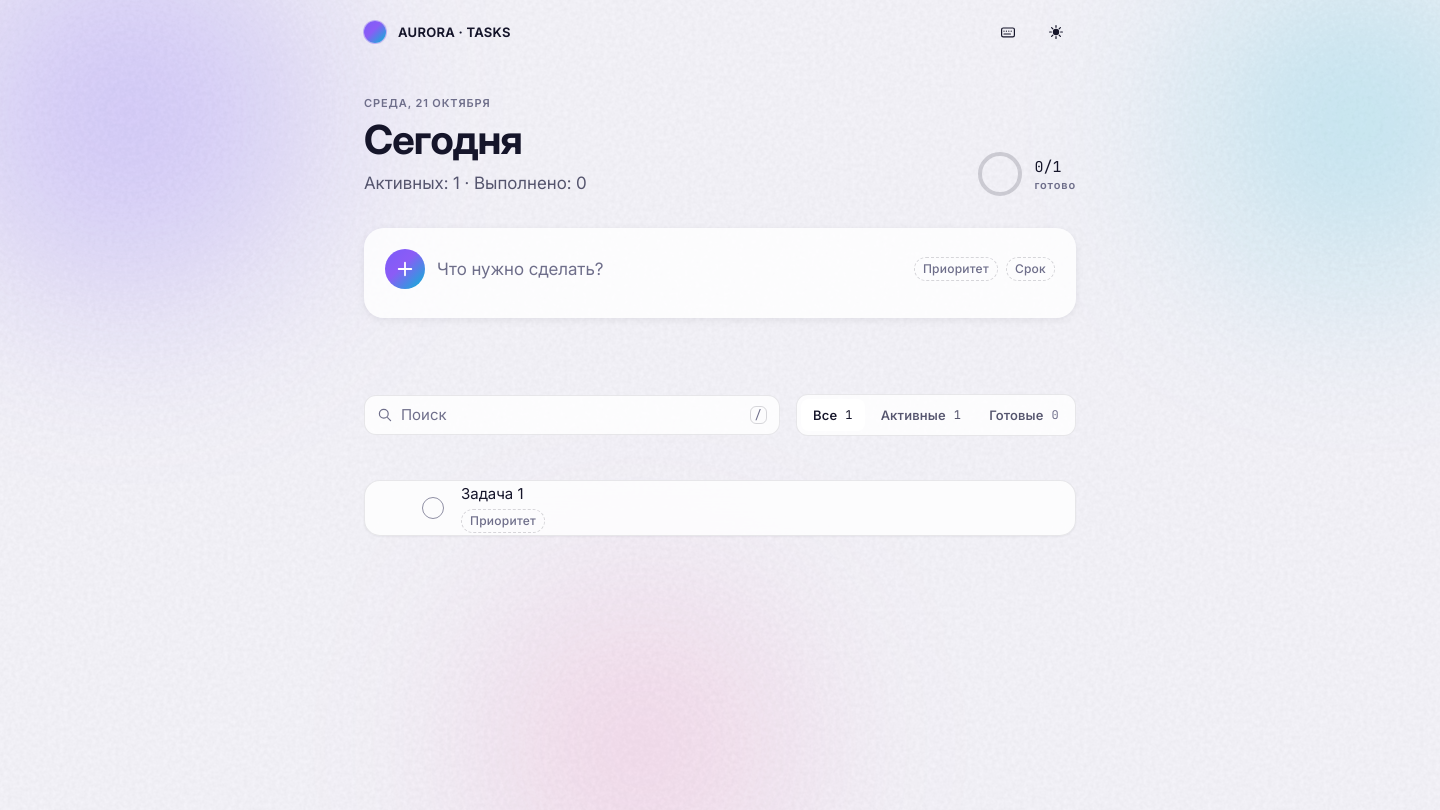
Scenario: keyboard flow (design-spec 6.3 / section 7) › the global keys, wired to the real screen › every action in the add/complete/delete/undo cycle still works (criterion 17)
Type keys "n"
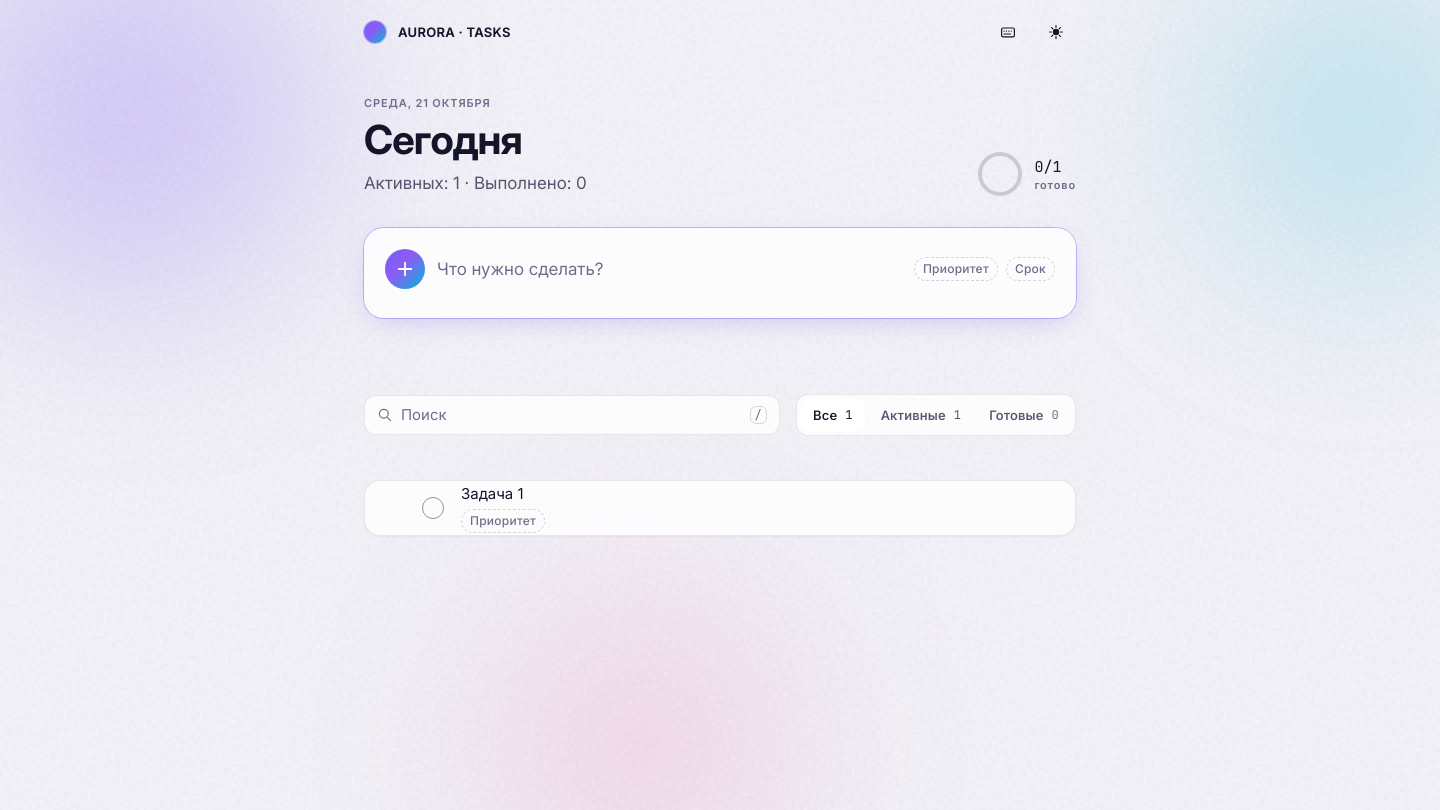
Type keys "Новая задача{Enter}"
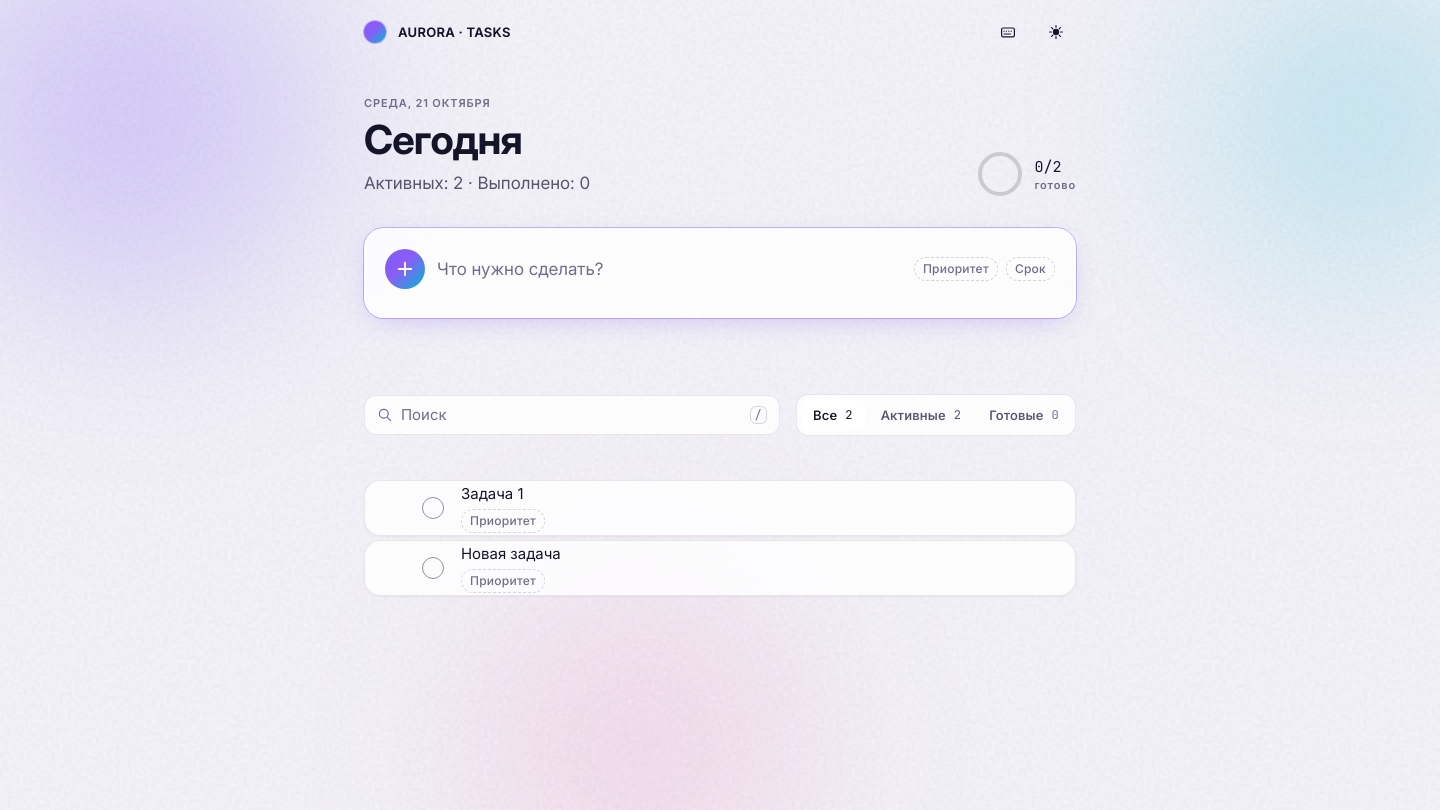
Expected: the text "Активных: 2 · Выполнено: 0" is shown, x1=364 y1=170 x2=590 y2=196
Click the checkbox labelled "Новая задача". click: (433, 568)
box: x1=422 y1=557 x2=444 y2=579
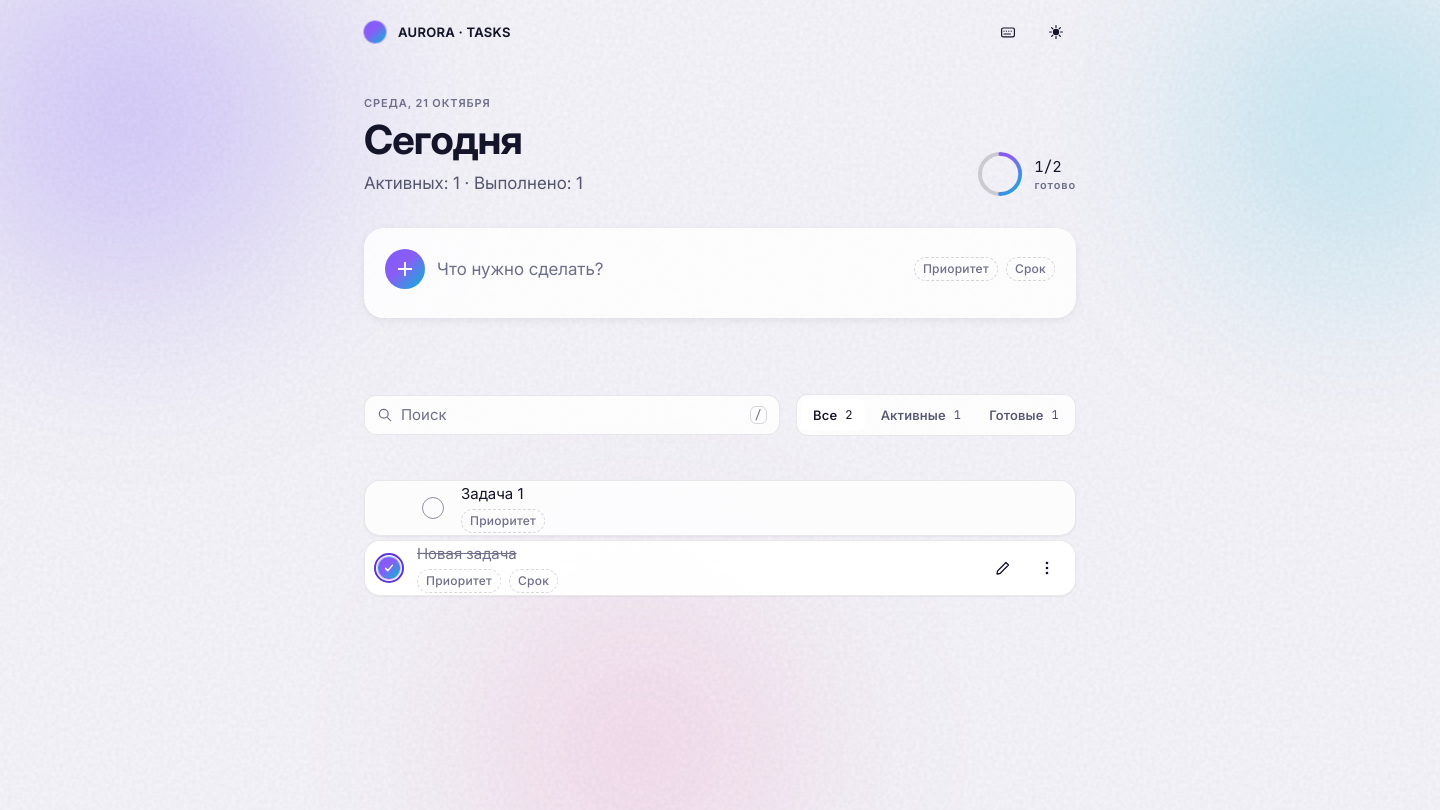
Expected: the text "Активных: 1 · Выполнено: 1" is shown, x1=364 y1=170 x2=583 y2=196
Click the checkbox labelled "Новая задача". click: (389, 568)
box: x1=378 y1=557 x2=400 y2=579
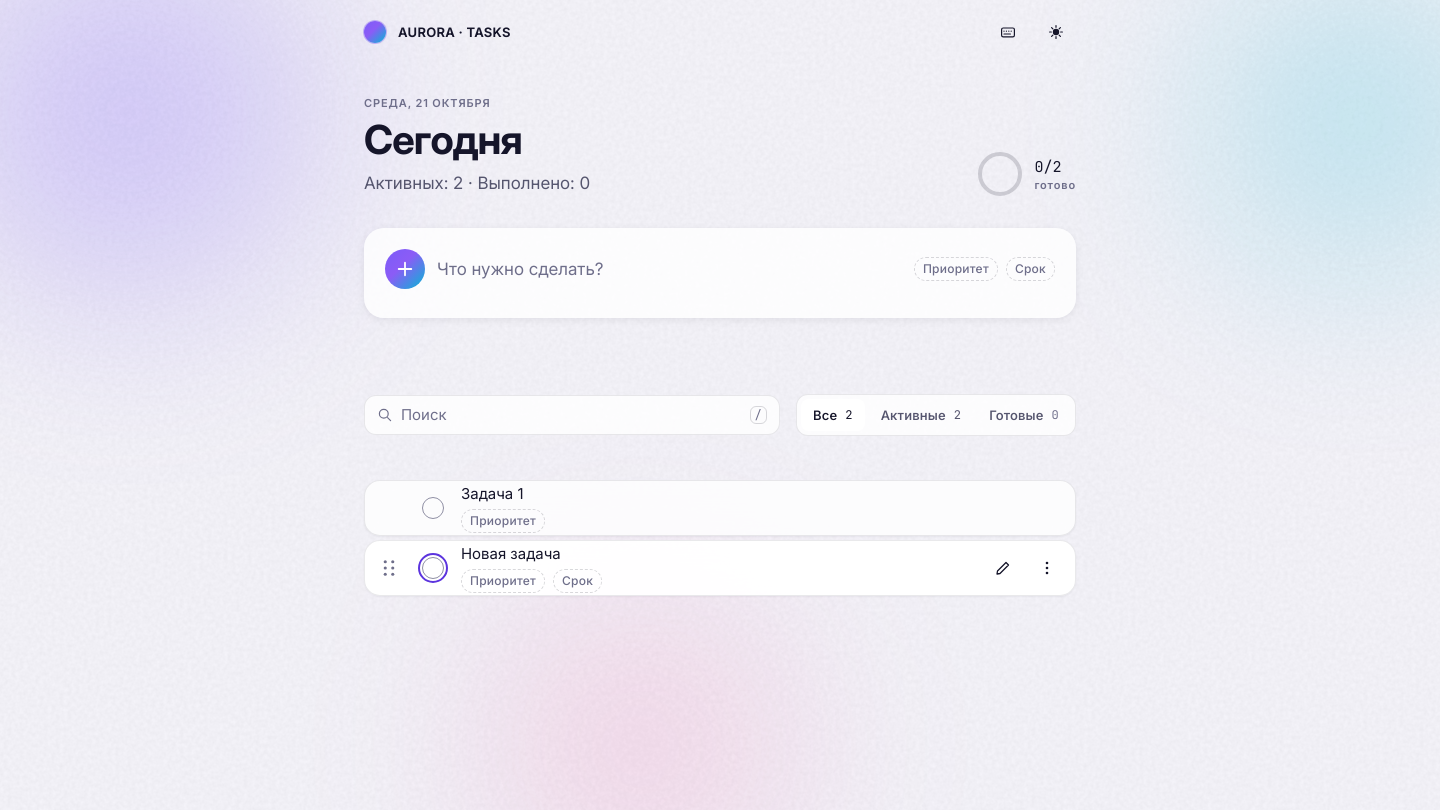
Expected: the text "Активных: 2 · Выполнено: 0" is shown, x1=364 y1=170 x2=590 y2=196
Press Delete
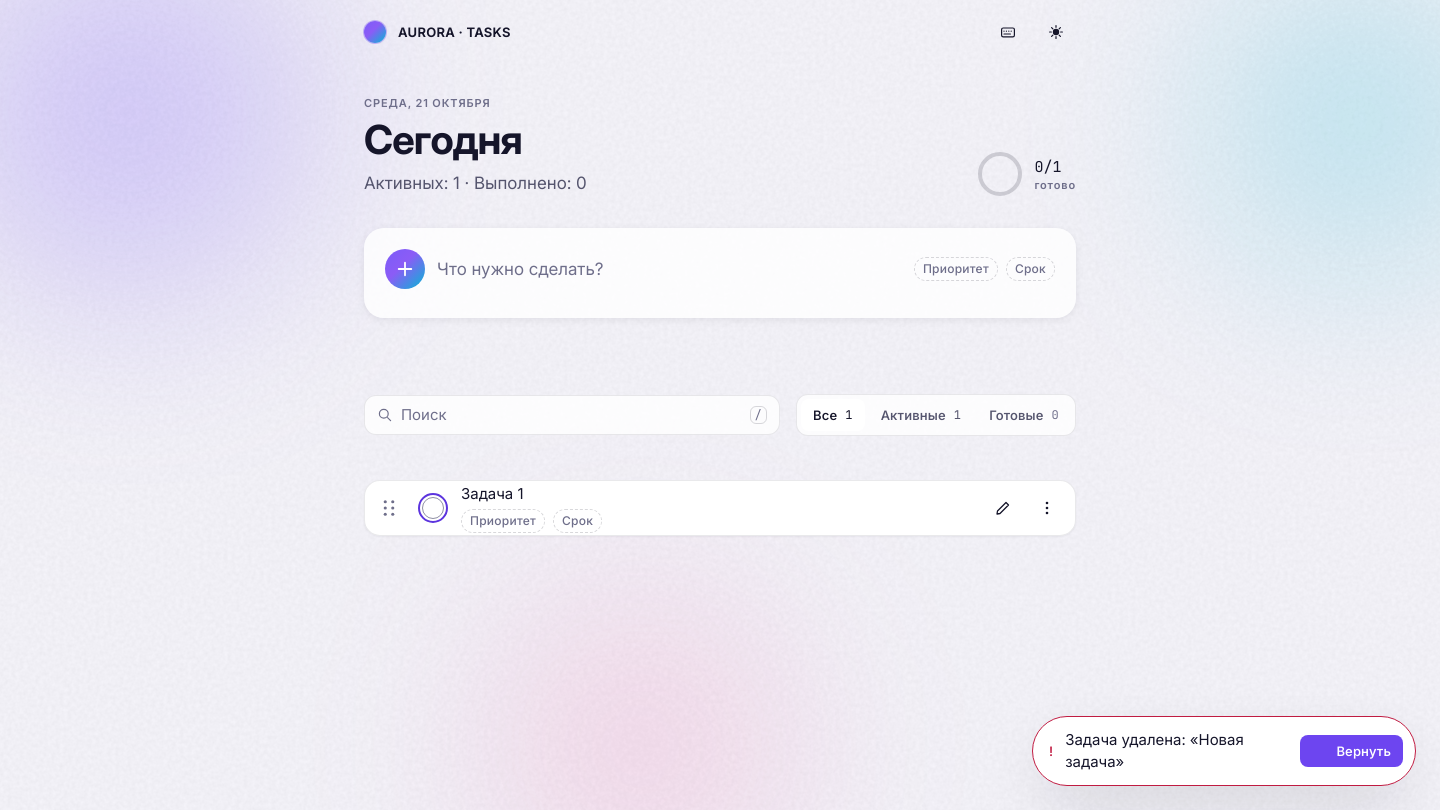
Expected: the message shows "Задача удалена: «Новая задача»", x1=1065 y1=730 x2=1244 y2=771
Expected: the text "Активных: 1 · Выполнено: 0" is shown, x1=364 y1=170 x2=587 y2=196
Type keys "{Control>}z{/Control}"
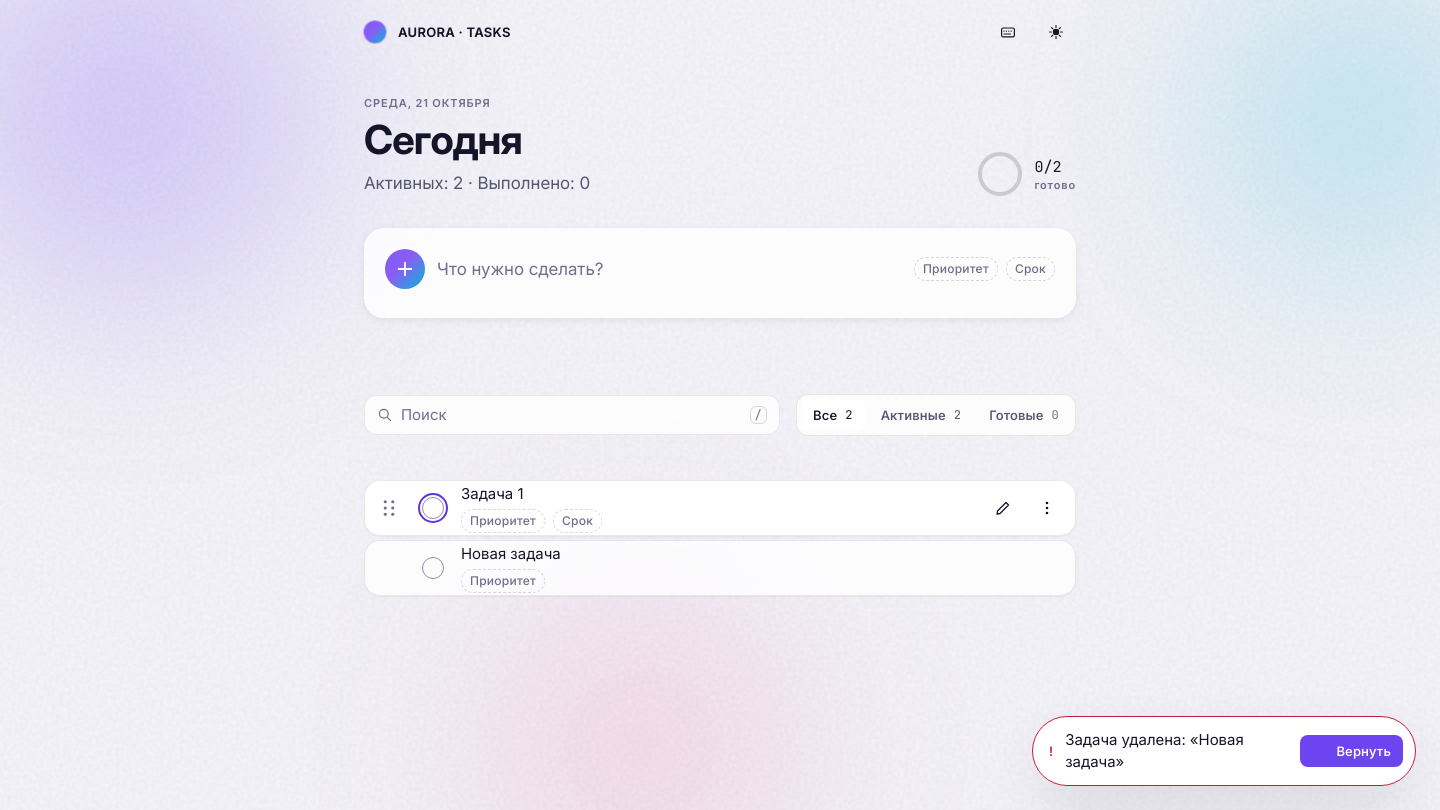
Expected: the text "Активных: 2 · Выполнено: 0" is shown, x1=364 y1=170 x2=590 y2=196
